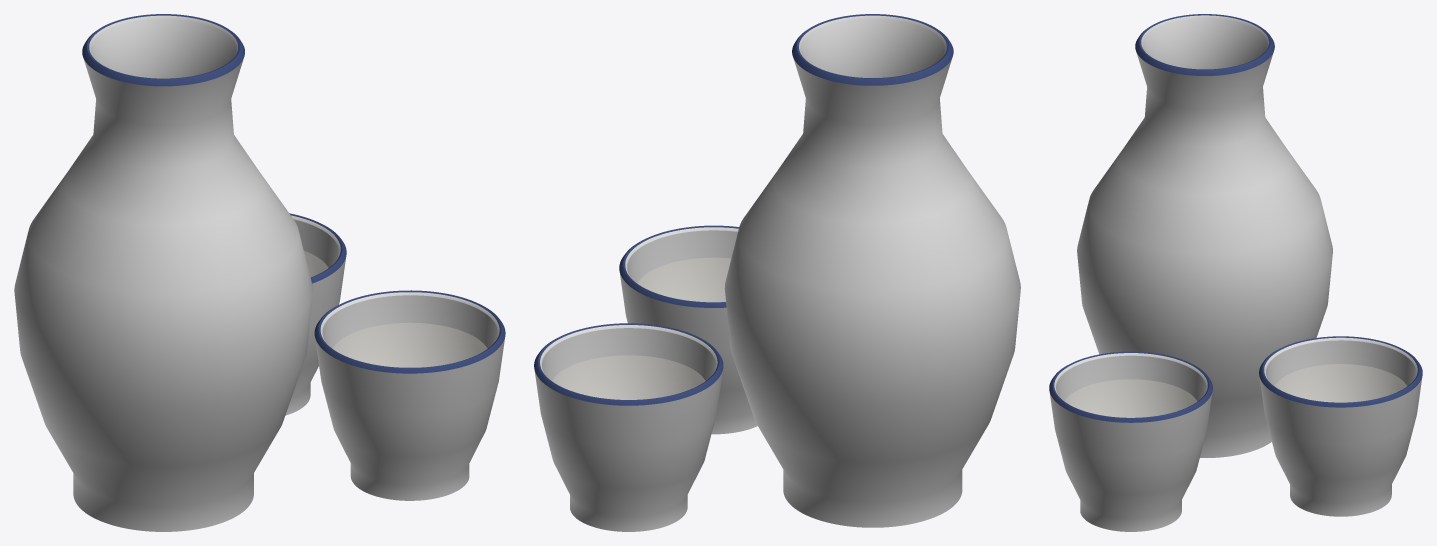
Rendered from shuki.glb.
3 views of the same model, side by side, from view 1: azimuth 30°, elevation 25°; view 2: azimuth 150°, elevation 25°; view 3: azimuth 270°, elevation 25° (orthographic). The views are drawn at different scales.
Parts seen in each view (by area): view 1: 徳利, 猪口, 酒, 猪口.001; view 2: 徳利, 猪口.001, 猪口, 酒.001, 酒; view 3: 徳利, 猪口, 猪口.001, 酒, 酒.001.
Boxes of the visible parts, <box> form: 徳利: <box>14,14,312,531</box>; 猪口: <box>314,290,505,500</box>; 酒: <box>333,322,487,367</box>; 猪口.001: <box>285,213,346,415</box>; 徳利: <box>724,14,1020,527</box>; 猪口.001: <box>534,323,723,531</box>; 猪口: <box>619,225,757,434</box>; 酒.001: <box>552,355,705,399</box>; 酒: <box>637,257,730,302</box>; 徳利: <box>1077,14,1332,457</box>; 猪口: <box>1049,351,1212,531</box>; 猪口.001: <box>1259,336,1422,516</box>; 酒: <box>1065,379,1197,417</box>; 酒.001: <box>1275,364,1406,402</box>.
Size of the model in its own units: 0.1195 by 0.123 by 0.1086.
